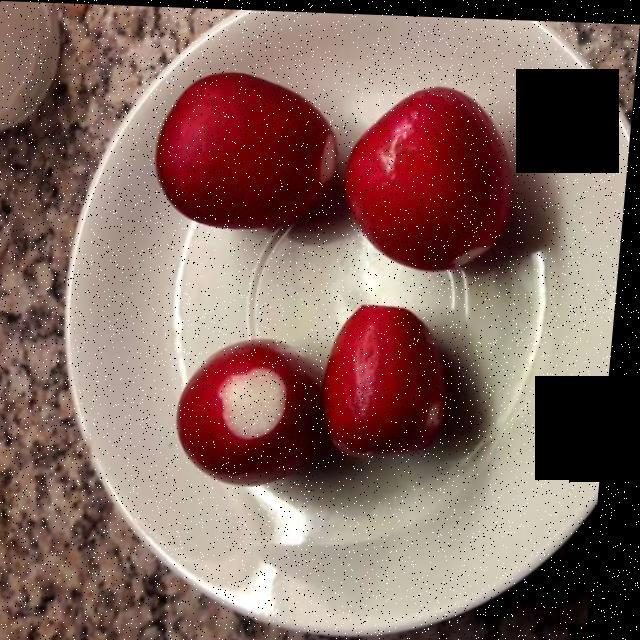radish: (166, 67, 526, 481)
